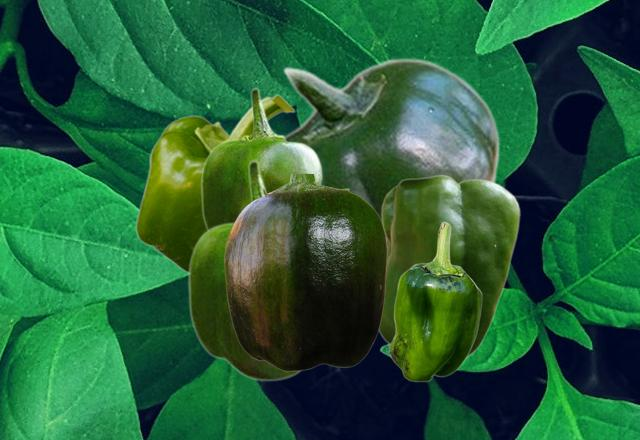bell_pepper: (279, 57, 499, 214), (224, 174, 386, 370), (135, 94, 296, 275), (379, 174, 520, 358), (187, 159, 302, 381), (200, 87, 322, 228), (388, 221, 481, 381)
